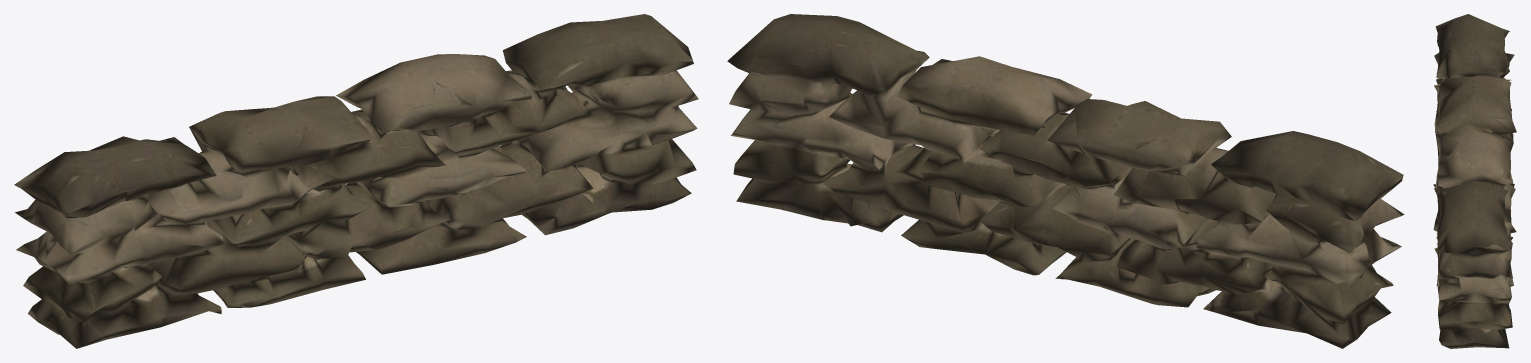
File: sacs.glb
The picture shows the model from 3 angles, left to right: view 1: azimuth 30°, elevation 25°; view 2: azimuth 150°, elevation 25°; view 3: azimuth 270°, elevation 25°; orthographic projection. The views are drawn at different scales.
Size of the model in its own units: 1.89 by 0.5171 by 0.299.
Materials: 1 (1 with a texture image).
